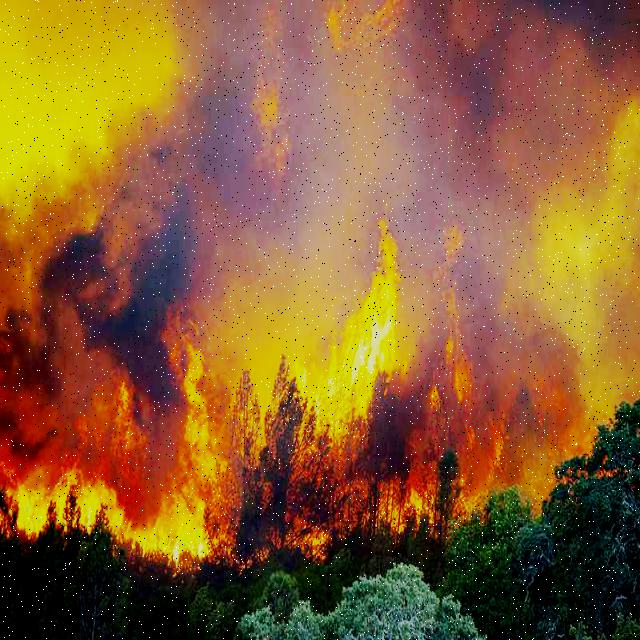api: (1, 452, 175, 551), (175, 326, 230, 560), (329, 254, 399, 432), (444, 224, 472, 418), (332, 8, 403, 50), (256, 77, 286, 155), (478, 420, 503, 507), (399, 476, 441, 522), (289, 354, 309, 391)
asap: (23, 1, 640, 248), (440, 228, 635, 454), (4, 188, 168, 443), (227, 226, 323, 367)
